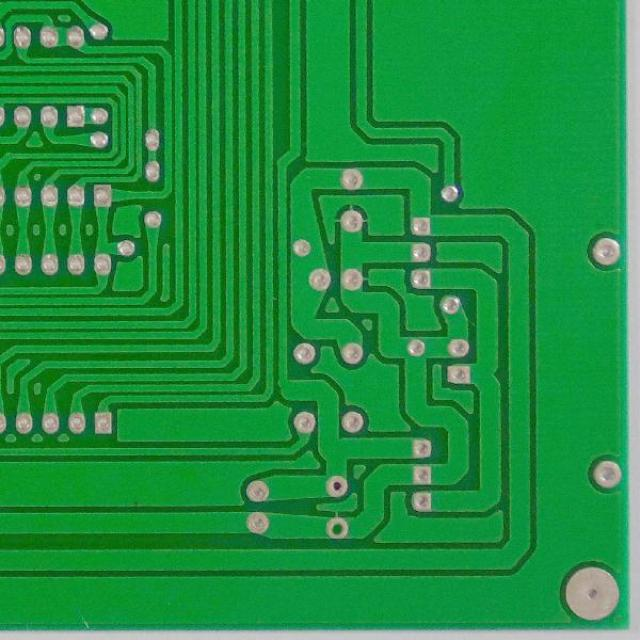Missing_Hole: (323, 516, 351, 542), (324, 474, 350, 498)
